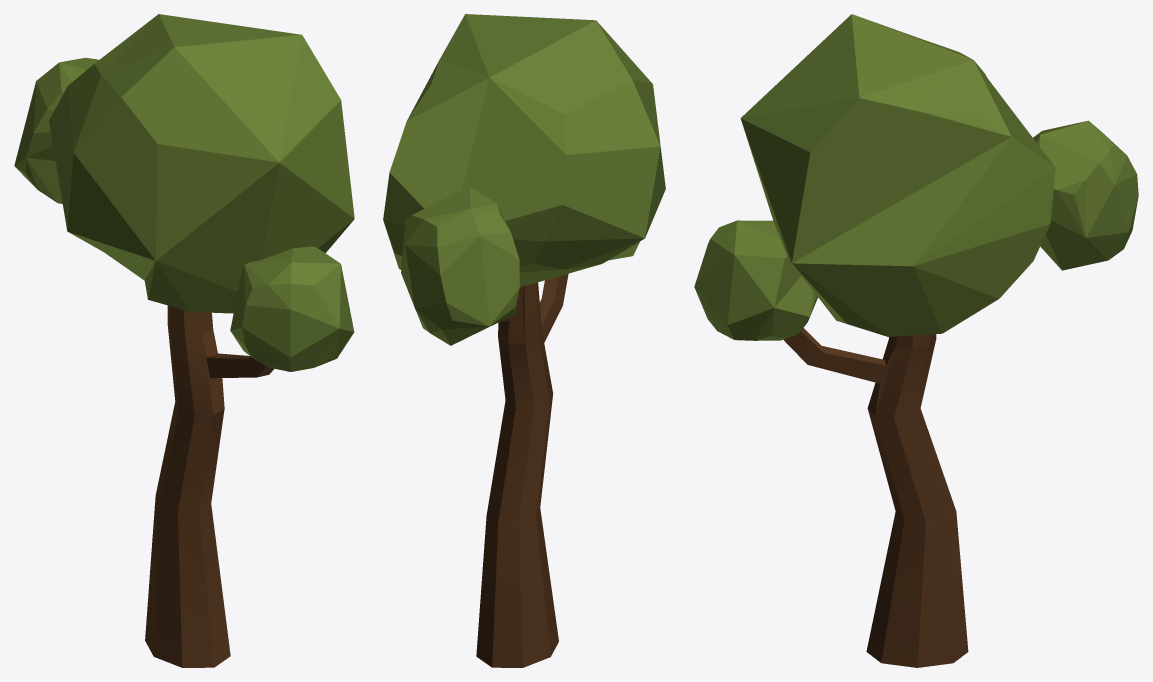
Rendered from Tree 1.fbx.
3 renders of one model, left to right at view 1: azimuth 30°, elevation 25°; view 2: azimuth 150°, elevation 25°; view 3: azimuth 270°, elevation 25°, orthographic. The views are drawn at different scales.
Visible parts, largest first — view 1: Tree_1; view 2: Tree_1; view 3: Tree_1.
Boxes of the visible parts, x1,y1,x2,y2 form: Tree_1: (14, 14, 354, 667); Tree_1: (383, 14, 665, 667); Tree_1: (694, 14, 1138, 667).
Bounding box in the file's own units: 291 × 710 × 465.
Materials: 1 (1 with a texture image).
